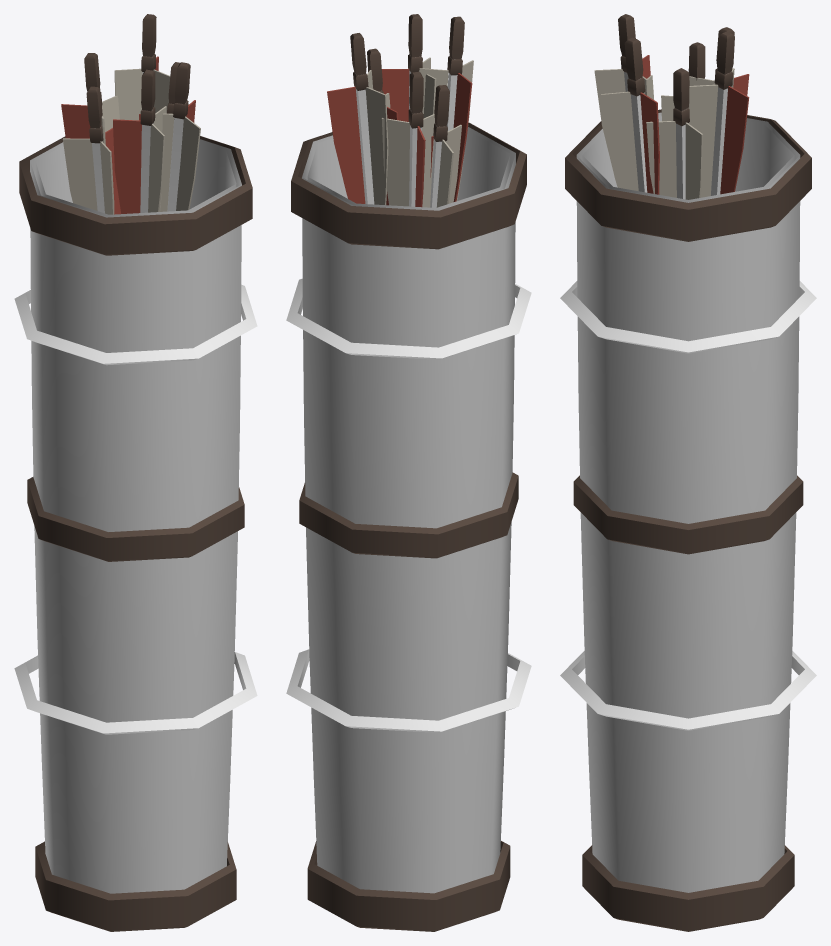
Rendered from ElderTree_Quiver.fbx.
3 views of the same model, side by side, from view 1: azimuth 30°, elevation 25°; view 2: azimuth 150°, elevation 25°; view 3: azimuth 270°, elevation 25° (orthographic). The views are drawn at different scales.
Visible parts, largest first — view 1: TungSahur_Quiver; view 2: TungSahur_Quiver; view 3: TungSahur_Quiver.
Part boxes in pixels (x1,y1,x2,y2): TungSahur_Quiver: (14,14,257,931); TungSahur_Quiver: (286,14,531,931); TungSahur_Quiver: (560,14,816,931).
Bounding box in the file's own units: 0.179 × 0.6711 × 0.179.
